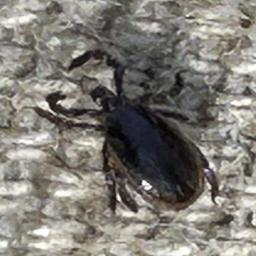Ixodes scapularis: (33, 49, 217, 216)
